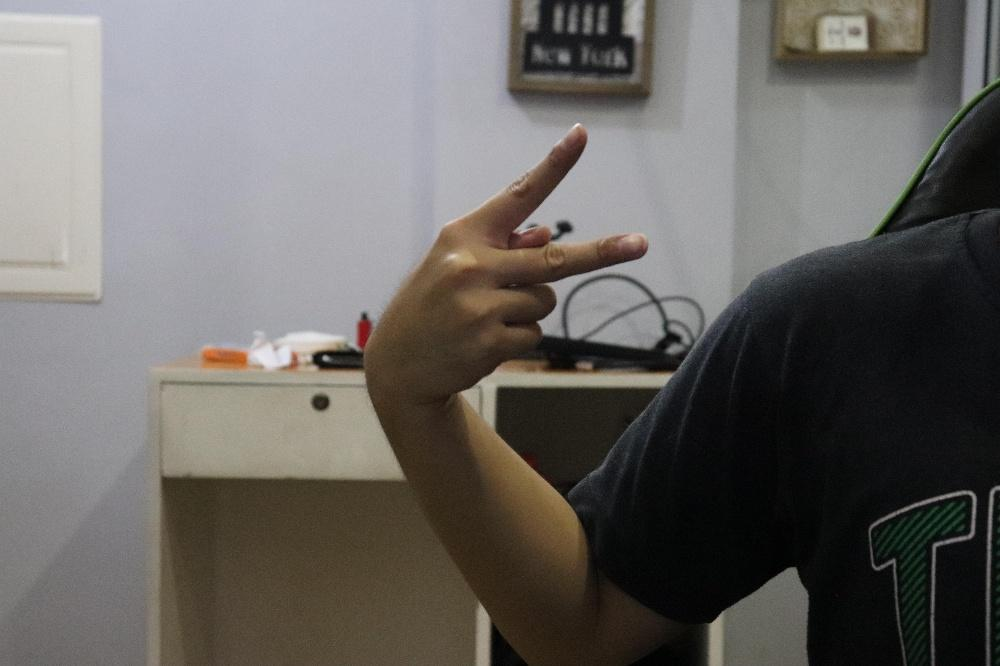k: (362, 120, 648, 407)
